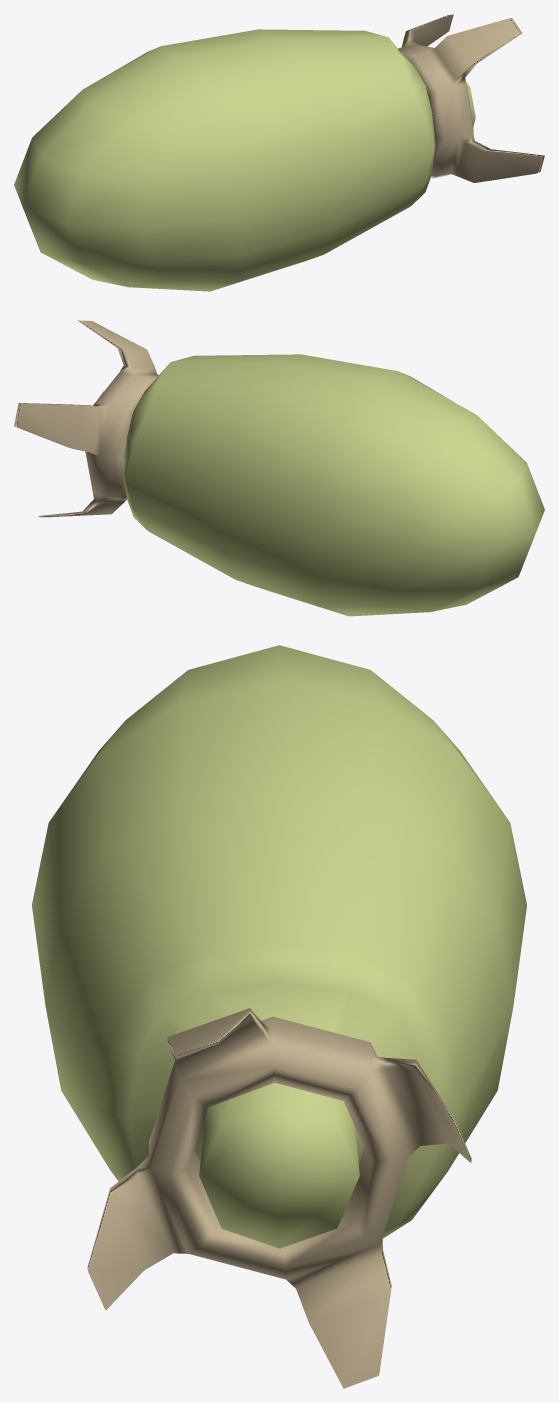
The model's file is BoomBang_Model.fbx.
The picture shows the model from 3 angles, top to bottom: view 1: azimuth 30°, elevation 25°; view 2: azimuth 150°, elevation 25°; view 3: azimuth 270°, elevation 25°; orthographic projection. The views are drawn at different scales.
Parts seen in each view (by area): view 1: Rocket, Motor; view 2: Rocket, Motor; view 3: Rocket, Motor.
Boxes of the visible parts, x1,y1,x2,y2 form: Rocket: (14, 29, 475, 291); Motor: (398, 14, 544, 182); Rocket: (99, 354, 544, 616); Motor: (14, 320, 158, 517); Rocket: (32, 645, 526, 1248); Motor: (87, 1008, 471, 1388).
Bounding box in the file's own units: 9.01 × 4.08 × 4.08.
